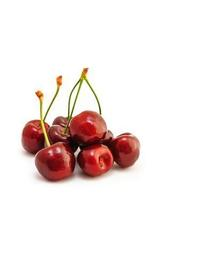cherry: (35, 143, 75, 181), (69, 110, 108, 144), (77, 145, 113, 177), (111, 133, 140, 169), (21, 120, 52, 153)
